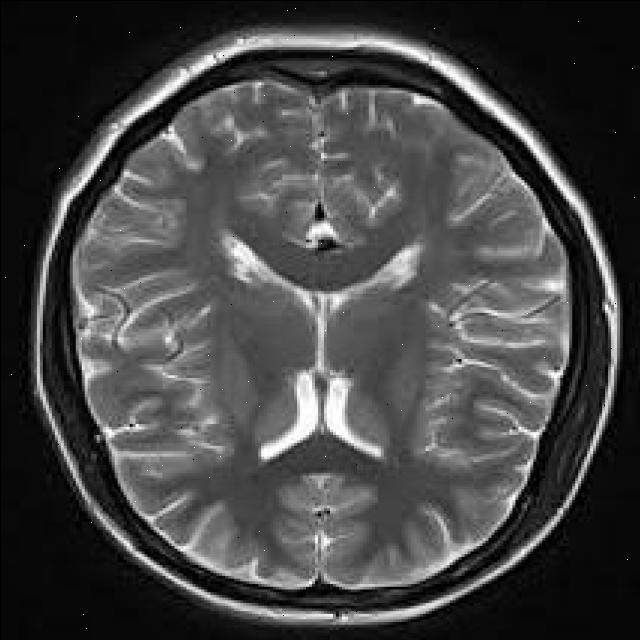No_Tumor: (31, 28, 619, 624)
